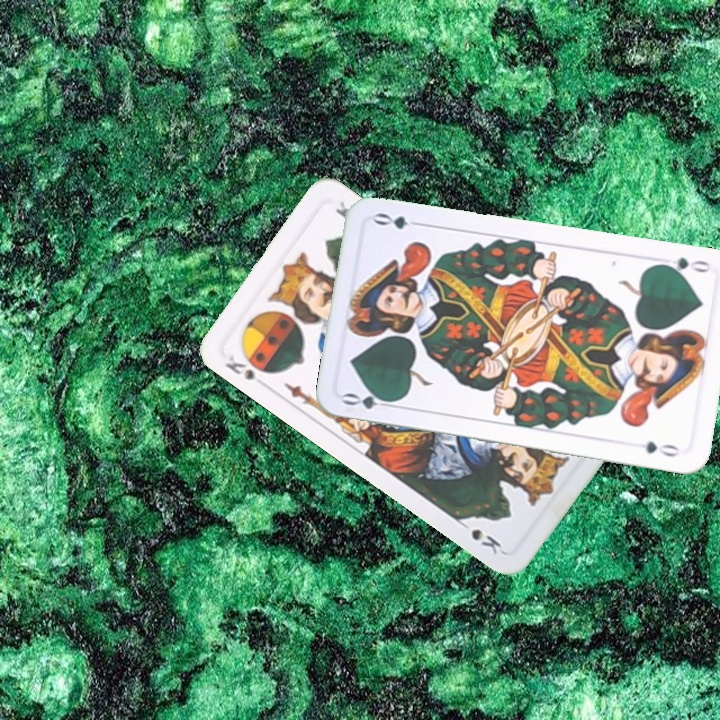GO: (654, 253, 713, 278), (339, 388, 399, 412)
SK: (221, 351, 258, 383)
